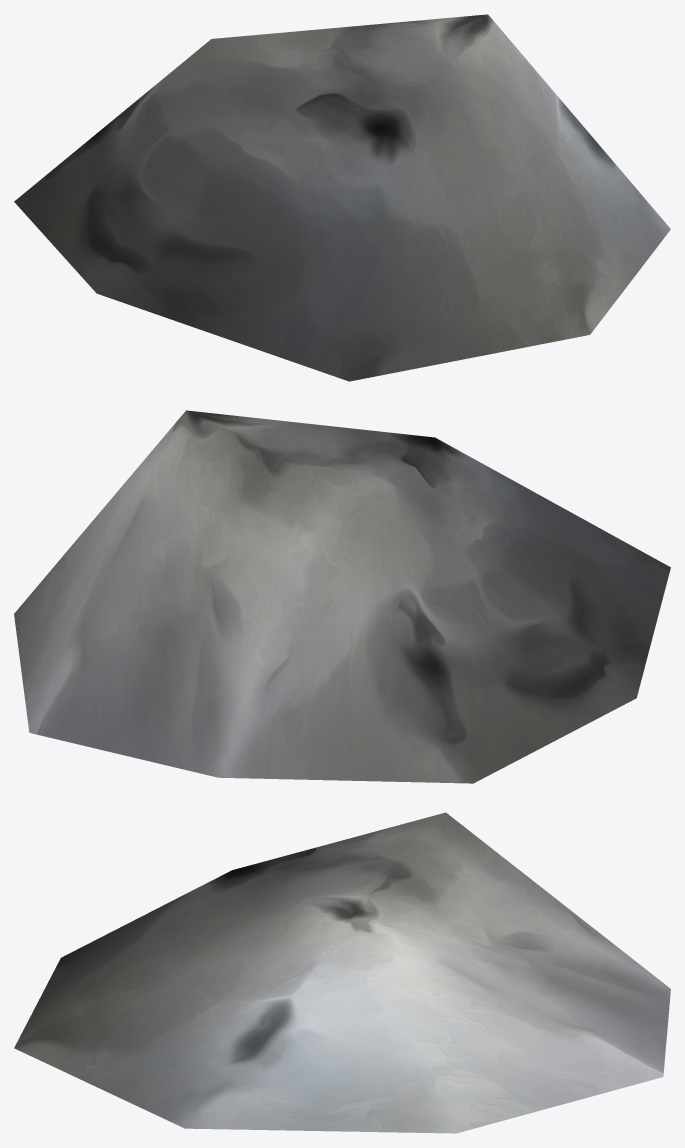
File: stone3.fbx
3 renders of one model, top to bottom at view 1: azimuth 30°, elevation 25°; view 2: azimuth 150°, elevation 25°; view 3: azimuth 270°, elevation 25°, orthographic. The views are drawn at different scales.
Visible parts, largest first — view 1: Group9859; view 2: Group9859; view 3: Group9859.
Part boxes in pixels (x1,y1,x2,y2): Group9859: (14, 14, 670, 381); Group9859: (14, 410, 670, 783); Group9859: (14, 812, 670, 1133).
Size of the model in its own units: 56.16 by 19.52 by 65.44.
Materials: 1 (1 with a texture image).
